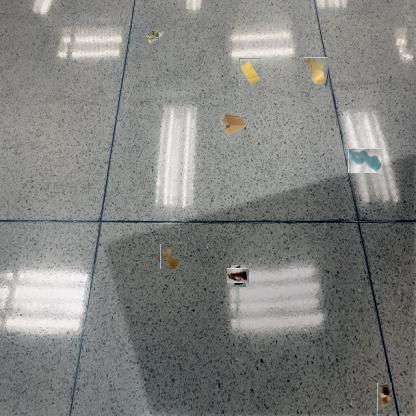dirty: (304, 57, 328, 86), (219, 112, 247, 136), (239, 58, 261, 86), (377, 384, 392, 416), (146, 28, 168, 44), (229, 267, 248, 285)
liquid: (348, 148, 381, 173), (159, 245, 181, 268)
